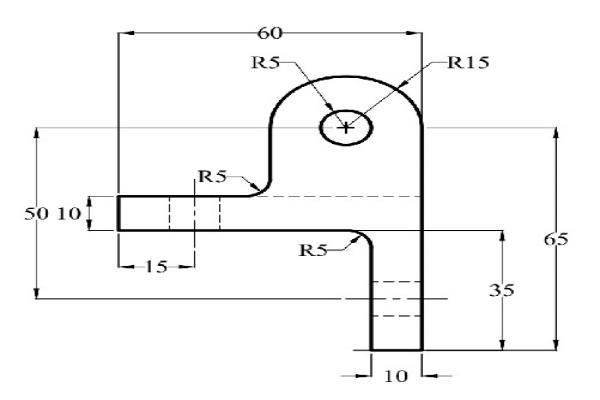dimensions: (447, 46, 493, 77), (295, 235, 328, 266), (486, 275, 523, 302), (252, 18, 286, 46), (245, 51, 283, 74), (541, 227, 574, 251), (54, 202, 85, 226), (197, 166, 229, 189), (381, 368, 416, 386), (22, 204, 54, 223), (144, 257, 170, 275)
